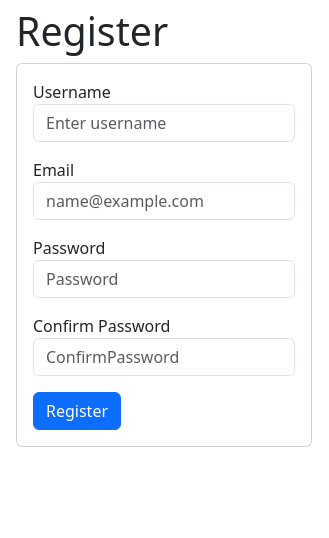
Register Component › shows error if a field is empty
Type "test@example.com" into the field labelled "Email".
click(164, 201); type("test@example.com")  # box [33,182,295,220]
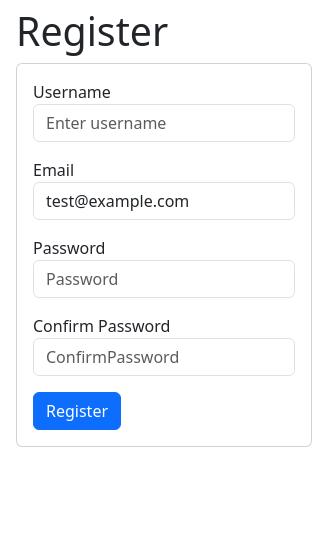
Type "password123" into the password field labelled "Password".
click(164, 279); type("password123")  # box [33,260,295,298]
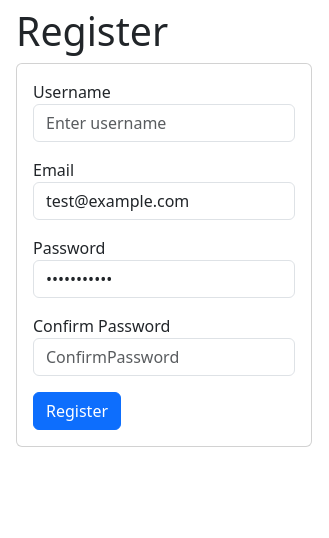
Click the button "Register".
click(77, 411)  # box [33,392,121,430]
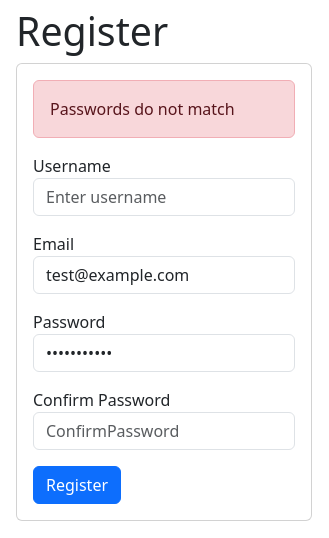
Now the text "Passwords do not match" is shown, box [33,80,295,138]
